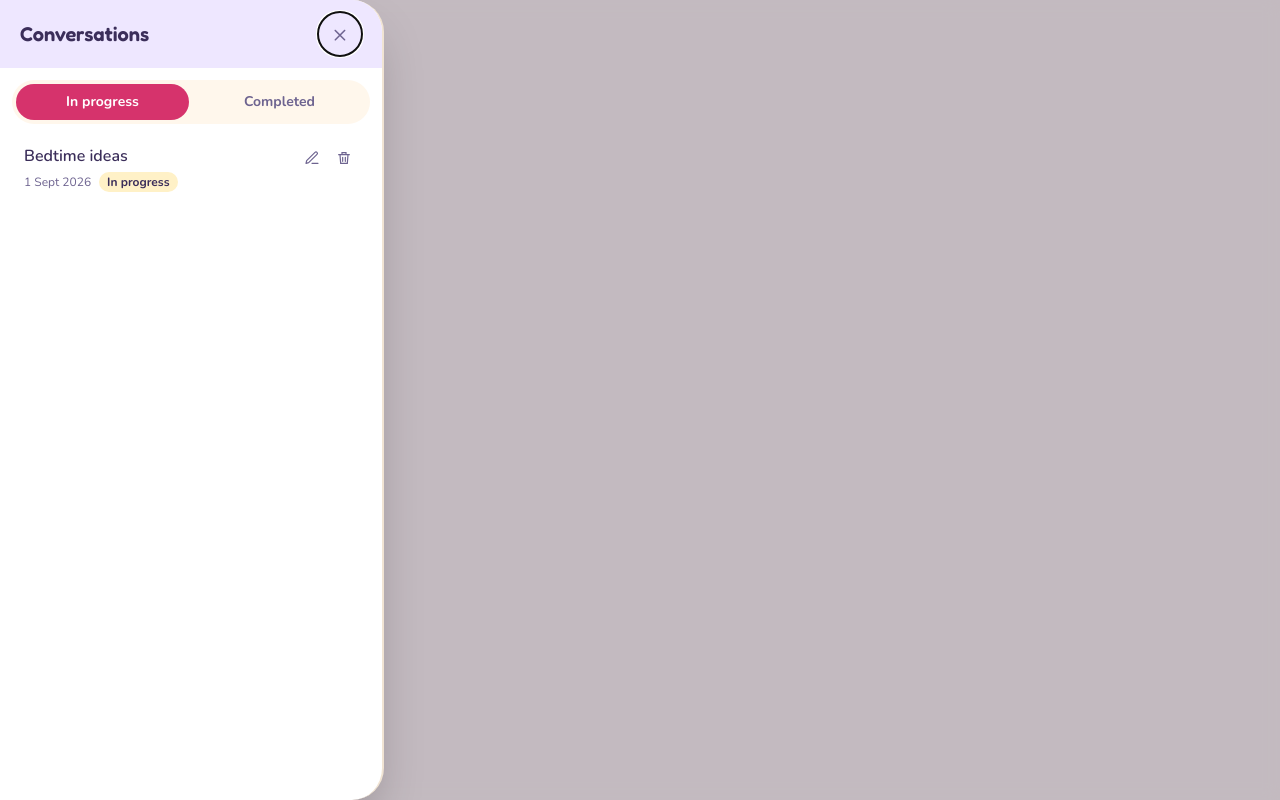
deleting › asks for confirmation, saying the stories are kept, then removes the conversation
Click the button named "Delete “Bedtime ideas”".
click(344, 158)  # box [330,144,358,172]
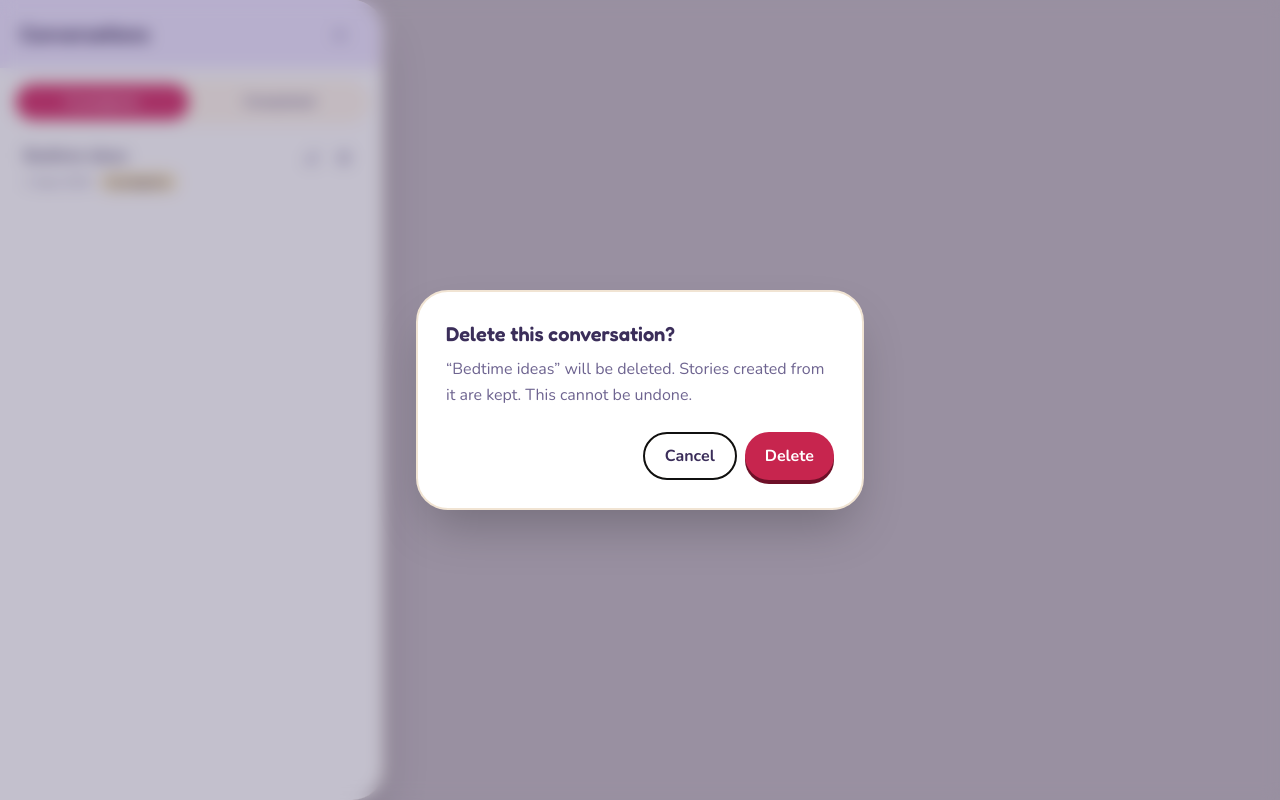
Expected: the text "Stories created from it are kept" is shown, [446,358,824,406]
Click the button "Delete".
click(789, 456)  # box [745,432,834,480]
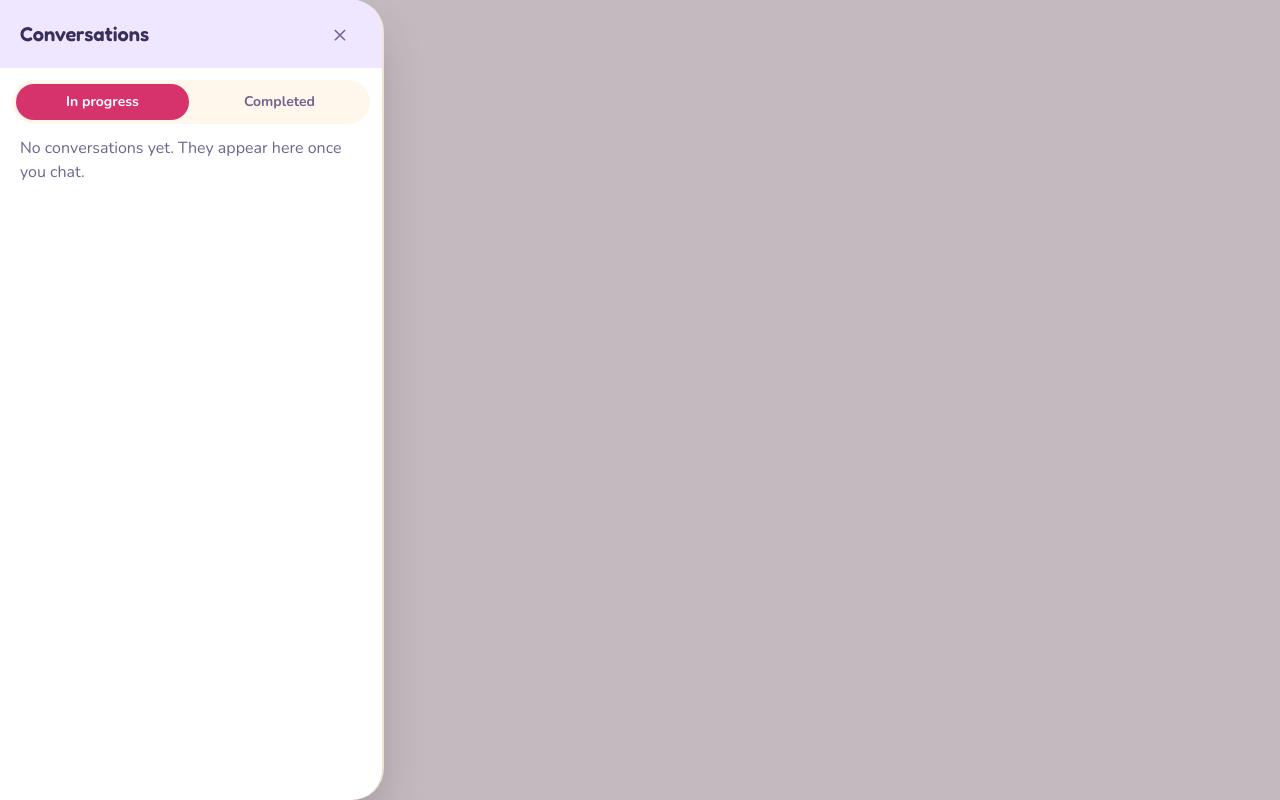
Expected: the button "Bedtime ideas" is gone
